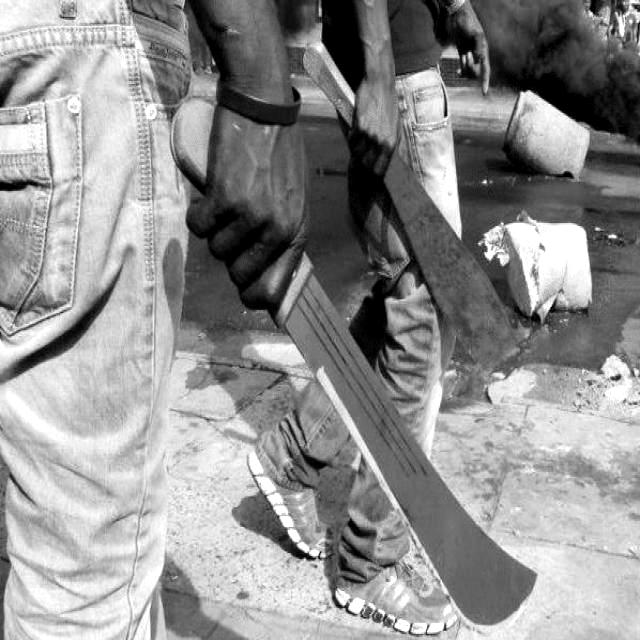long knife: (170, 94, 550, 640)
